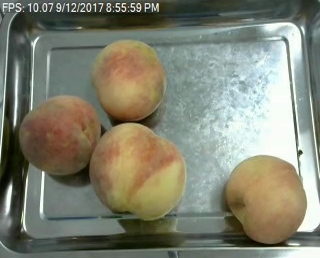Peach: (87, 121, 187, 220), (224, 154, 308, 244), (18, 93, 101, 175), (92, 37, 166, 121)
